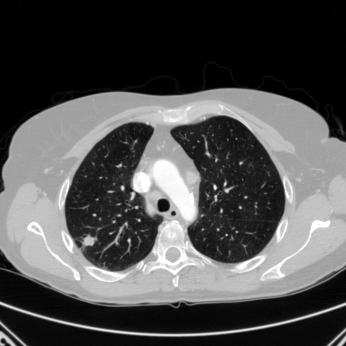nodule: (82, 235, 94, 247)
